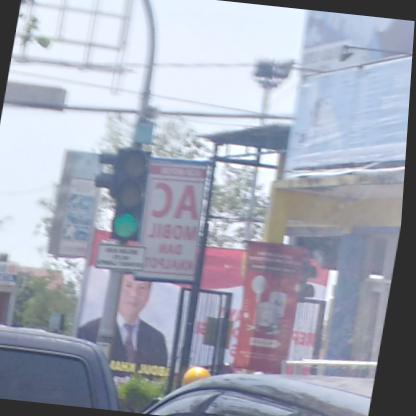green: (114, 148, 154, 242)
